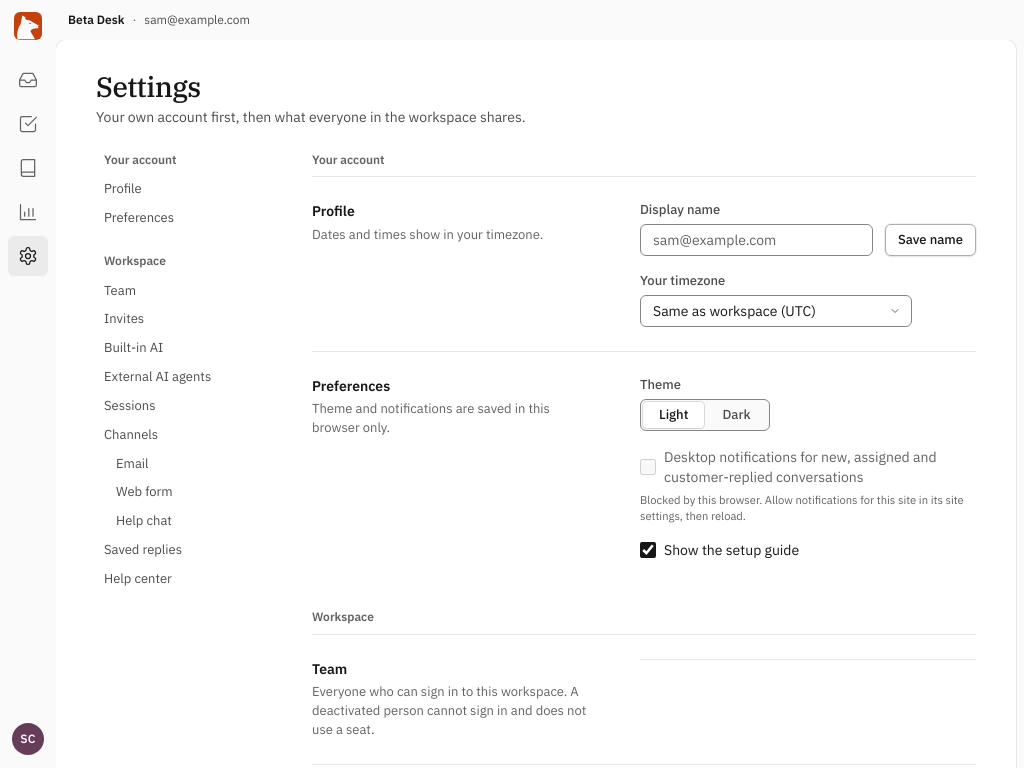
Scenario: on a self-hosted server, signing out leaves no identity of the old session on screen
Expected: the element named "Signed in as" shows "Beta Desk", [68,12,124,27]
Click the button "SC" at (28, 739), box [8,722,48,756]
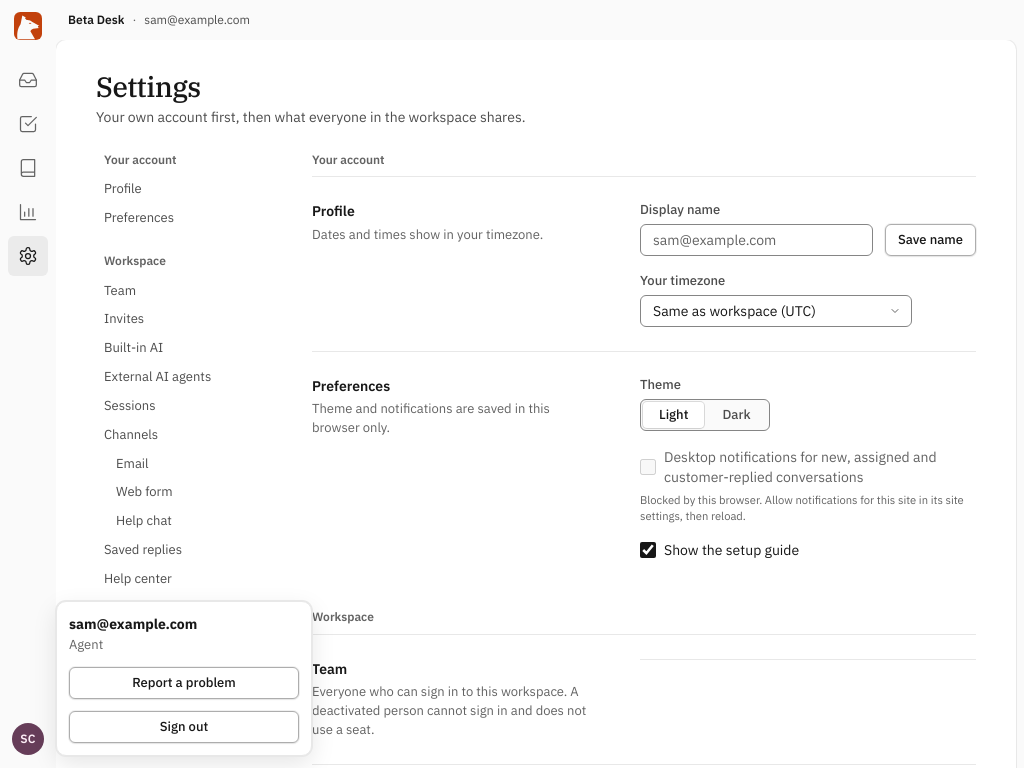
Click the button "Sign out" at (184, 727), box [69,711,299,743]
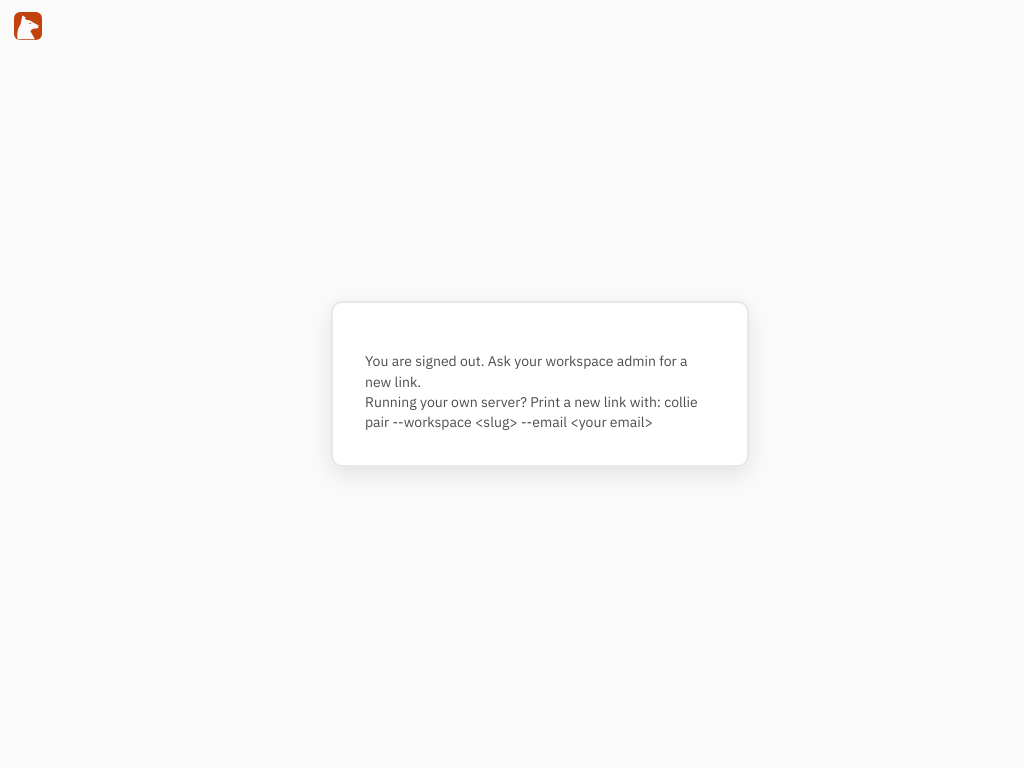
Now the message reads "You are signed out. Ask your workspace admin for a new link.", box [365,352,688,391]
Now the text "collie pair" is shown, box [365,393,698,431]
